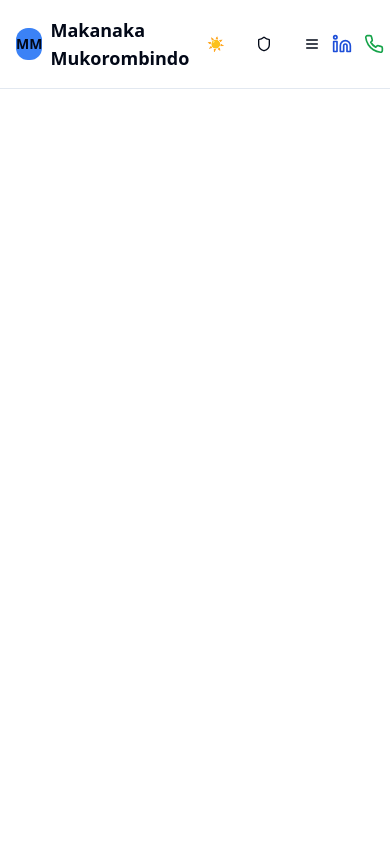
Test: Navigation Component › shows mobile menu when hamburger is clicked
Step 1. Click the 3rd button → (312, 44), box x1=292 y1=26 x2=332 y2=62
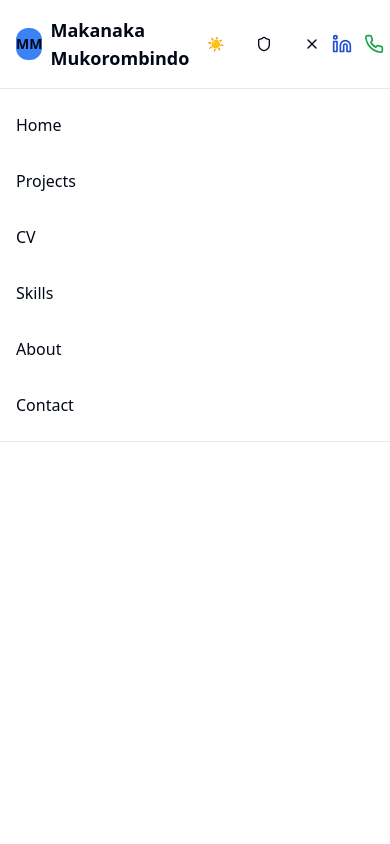
Expected: the navigation bar is shown, x1=16 y1=114 x2=76 y2=416
